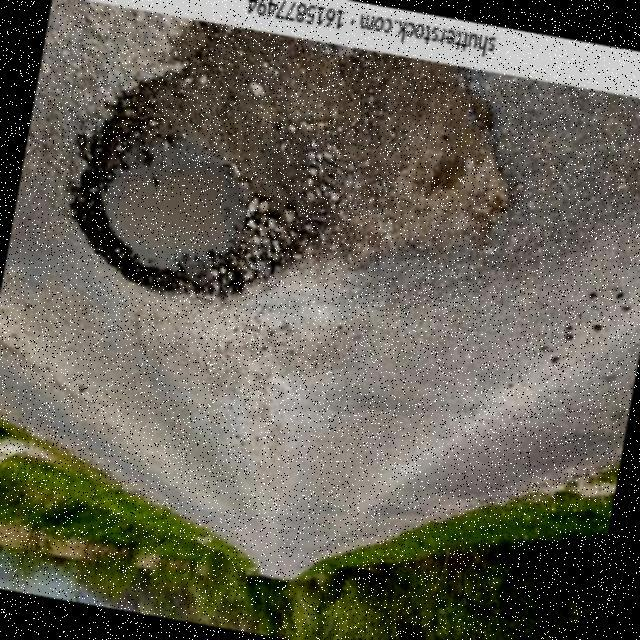Pothole: (64, 20, 522, 300)
